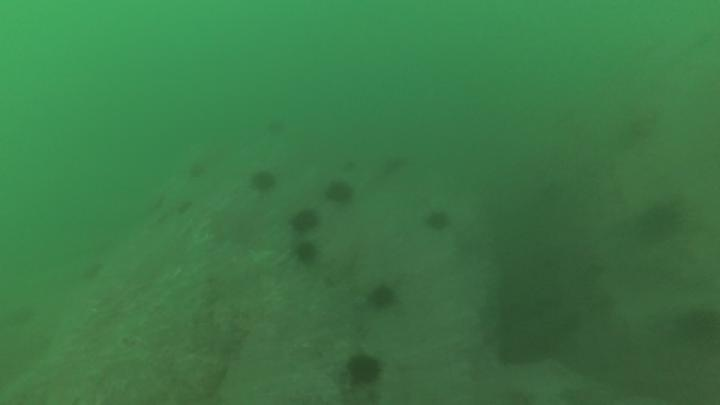echinus: (635, 199, 684, 244), (674, 304, 719, 348), (344, 351, 385, 387), (365, 281, 400, 312), (323, 178, 357, 207), (288, 206, 322, 235), (248, 167, 279, 195), (379, 152, 411, 179), (291, 239, 321, 267), (422, 207, 453, 234), (78, 259, 106, 284), (181, 158, 210, 181), (263, 115, 290, 138), (172, 197, 191, 220)
